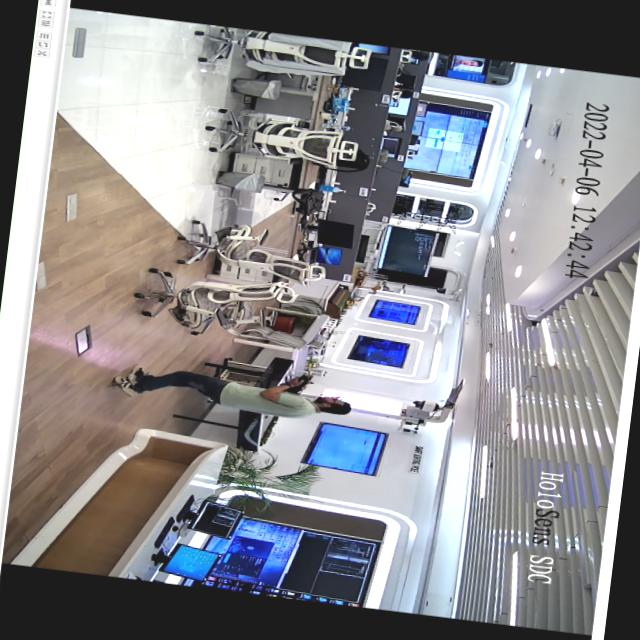long weapon: (278, 370, 318, 400)
